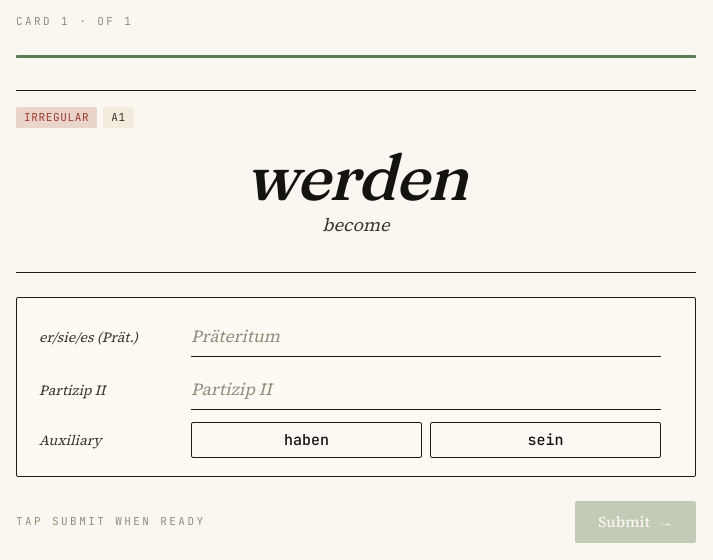
Test case: StammformenRunner — smoke tests › reveals feedback after Submit is clicked
// Click 'sein' to pick an aux (ensures form is valid)
Click the button "sein".
click(546, 440)  # box top-left (430, 422), bottom-right (661, 458)
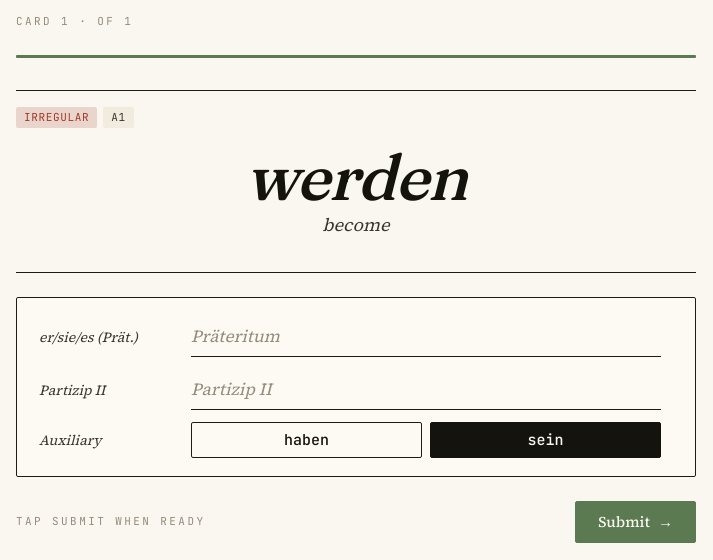
// Find Submit button
Click the button "Submit →".
click(636, 522)  # box top-left (575, 501), bottom-right (696, 543)
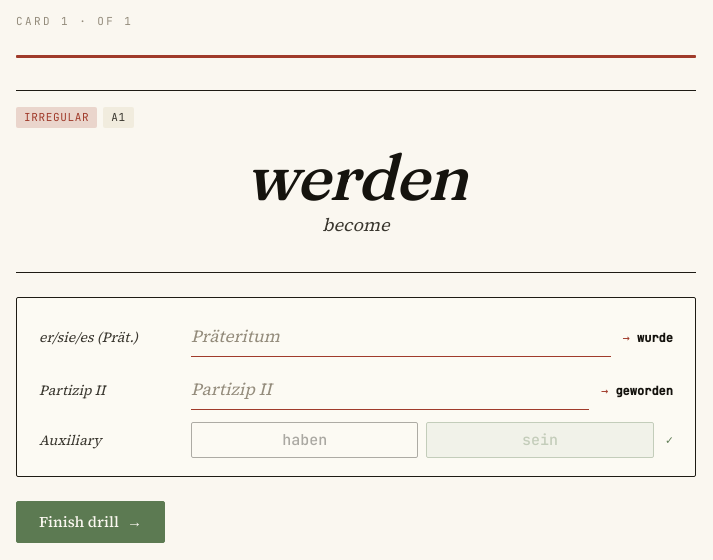
Now the element with class "stammf-feedback" showing "→ wurde" is shown, box top-left (622, 329), bottom-right (673, 348)
